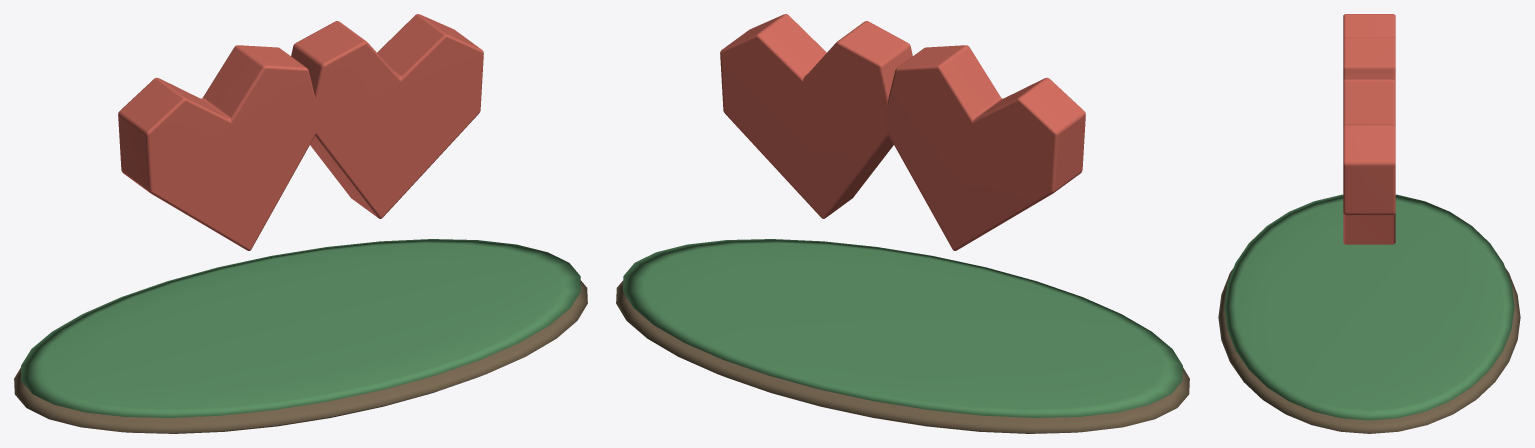
File: loving-emotion.glb
3 renders of one model, left to right at view 1: azimuth 30°, elevation 25°; view 2: azimuth 150°, elevation 25°; view 3: azimuth 270°, elevation 25°, orthographic. The views are drawn at different scales.
Parts seen in each view (by area): view 1: loving-emotion_surface_01, loving-emotion_surface_02, loving-emotion_surface_00; view 2: loving-emotion_surface_01, loving-emotion_surface_02, loving-emotion_surface_00; view 3: loving-emotion_surface_01, loving-emotion_surface_02, loving-emotion_surface_00.
Part boxes in pixels (x1,y1,x2,y2): loving-emotion_surface_01: [21, 239, 580, 417]; loving-emotion_surface_02: [118, 14, 483, 250]; loving-emotion_surface_00: [14, 280, 587, 433]; loving-emotion_surface_01: [623, 239, 1182, 417]; loving-emotion_surface_02: [720, 14, 1085, 250]; loving-emotion_surface_00: [616, 280, 1189, 433]; loving-emotion_surface_01: [1224, 194, 1514, 420]; loving-emotion_surface_02: [1343, 14, 1395, 244]; loving-emotion_surface_00: [1218, 268, 1520, 433].
Bounding box in the file's own units: 4.56 × 2.49 × 2.5.
